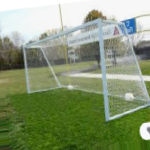goals: (20, 16, 150, 122)
